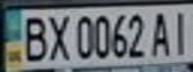0: (72, 11, 93, 61), (93, 10, 112, 61)
2: (127, 9, 151, 60)
6: (112, 10, 130, 60)
A: (148, 8, 175, 57)
B: (18, 11, 51, 63)
I: (166, 7, 193, 56)
X: (42, 11, 72, 62)
